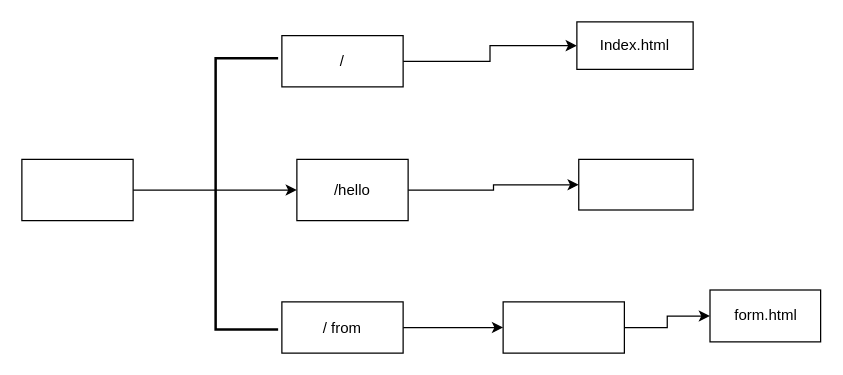
This 843x375 diagram has some shape labels left out. The centre of each missing label's shape, as x and y in pixels:
"form func" belongs at (x=563, y=327).
"hello func" belongs at (x=635, y=184).
"Server" belongs at (x=77, y=189).
